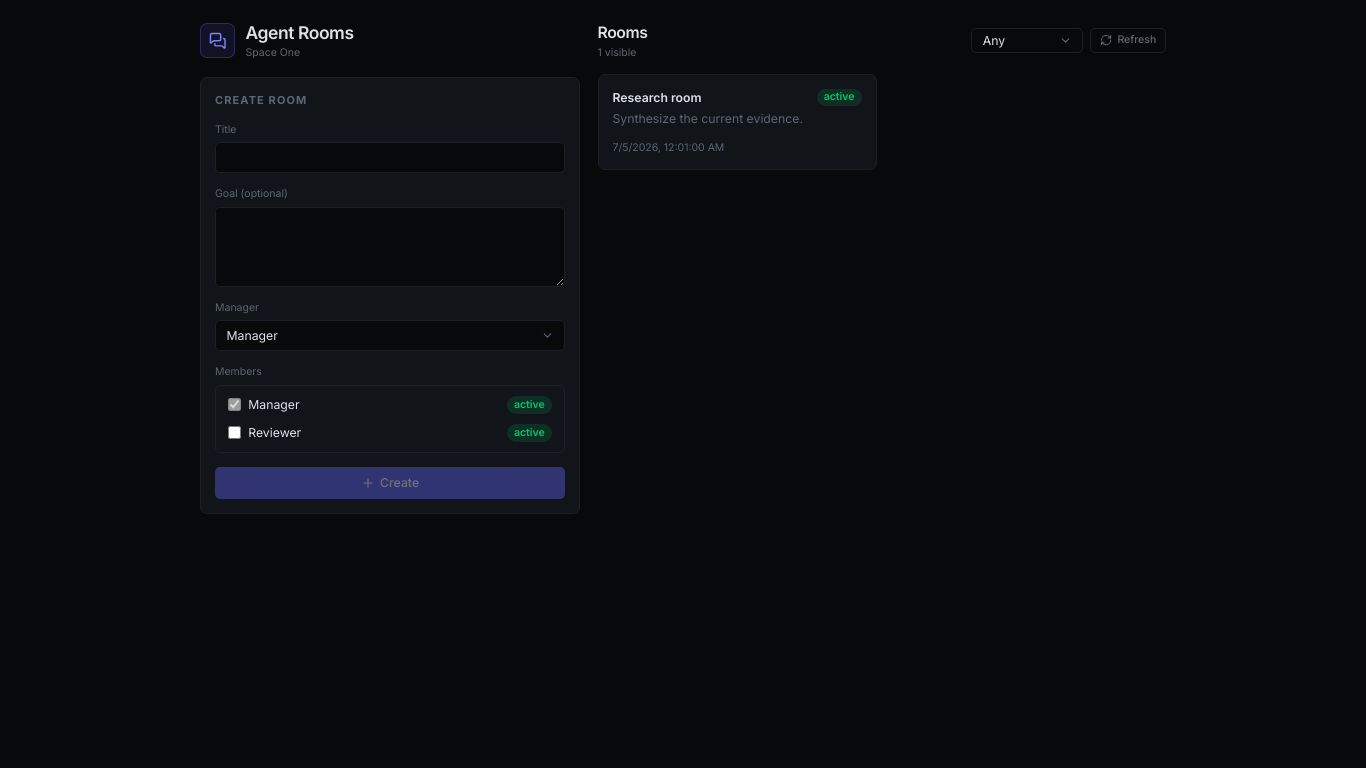
Test: AgentGroupsPage › opens a room as a chat surface and keeps audit details behind settings
Click the button "Research room": (737, 122) [598,74,876,170]
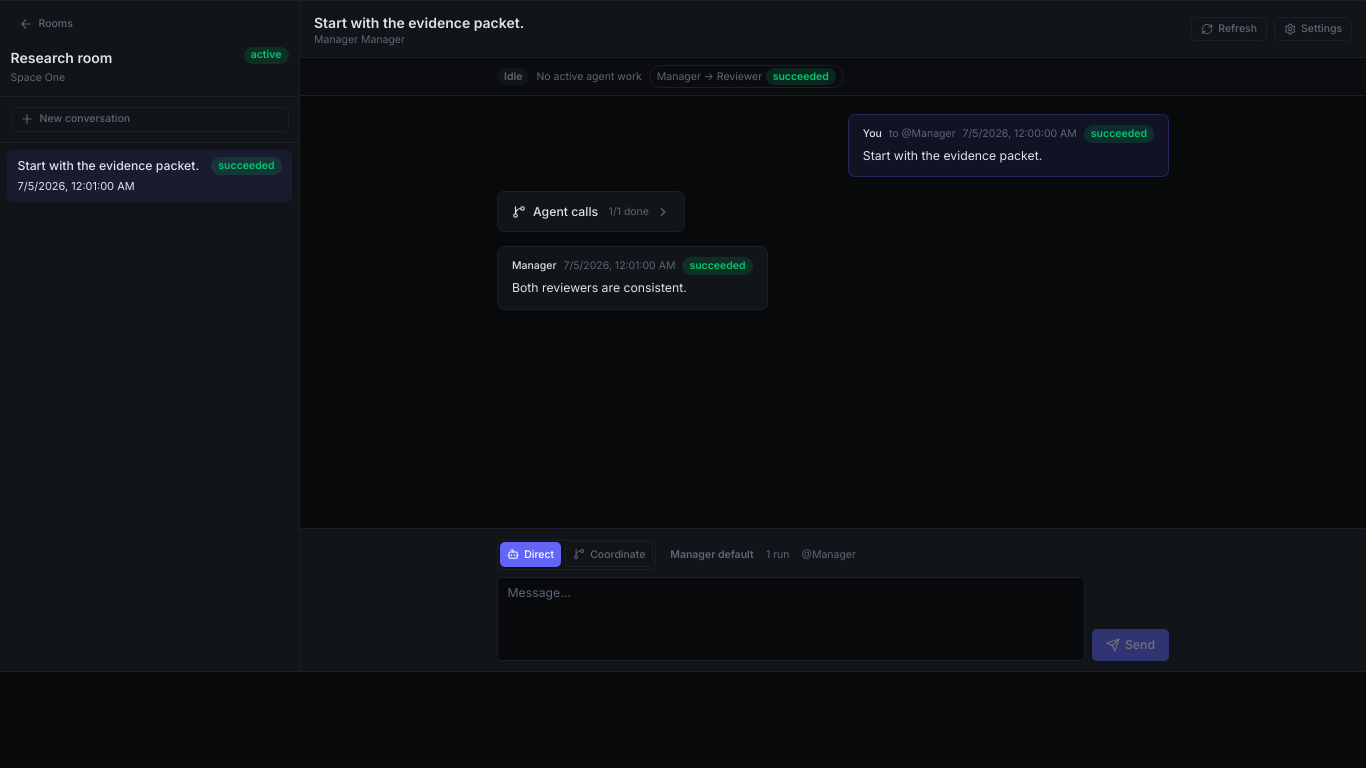
Expected: the text "Evidence summary is ready." is not shown
Now the text "Both reviewers are consistent." is shown, box [512,280,687,295]
Now the text "Agent calls" is shown, box [533,203,598,220]
Click the button "Agent calls 1/1 done": (591, 212) [512,203,670,220]
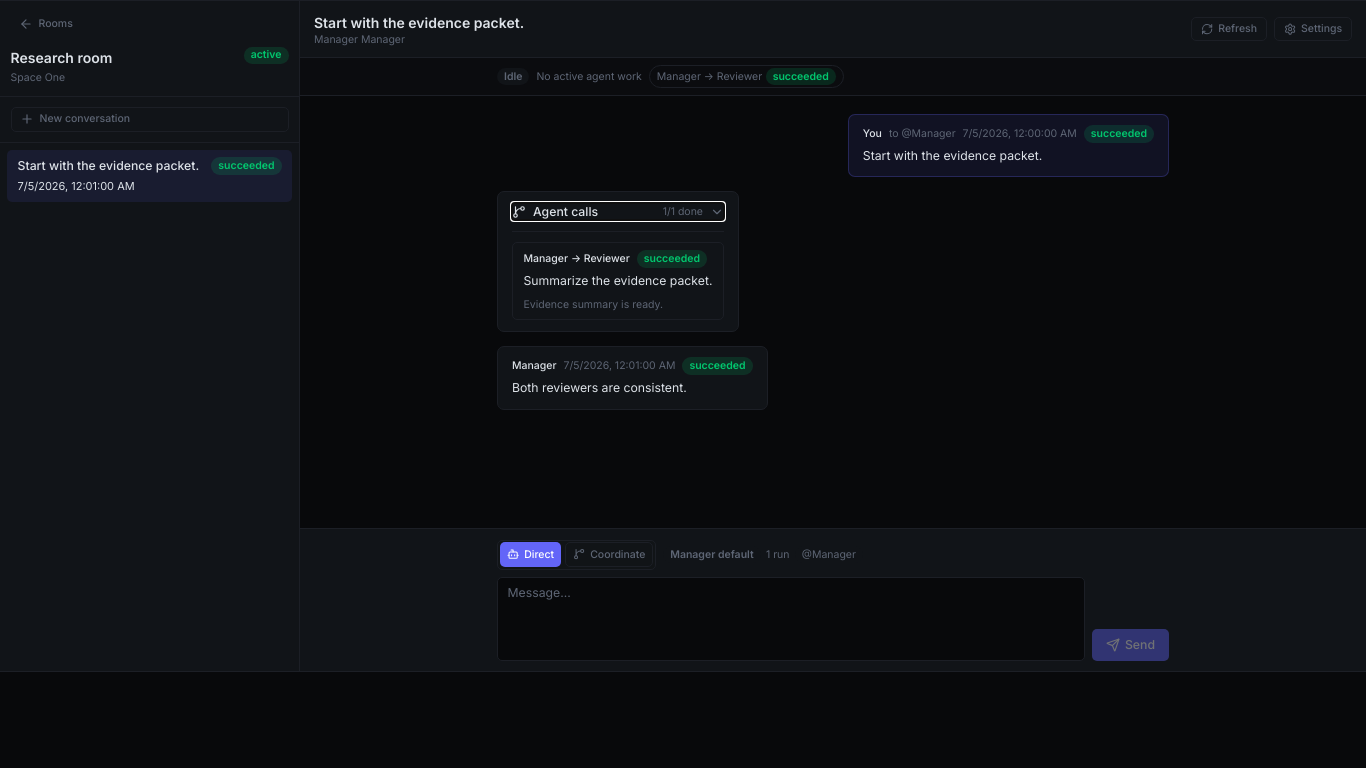
Expected: the text "Root run" is not shown
Now the text "Evidence summary is ready." is shown, box [524,298,663,311]
Click the button "Settings": (1313, 29) [1274,17,1352,41]
(page scrolled)
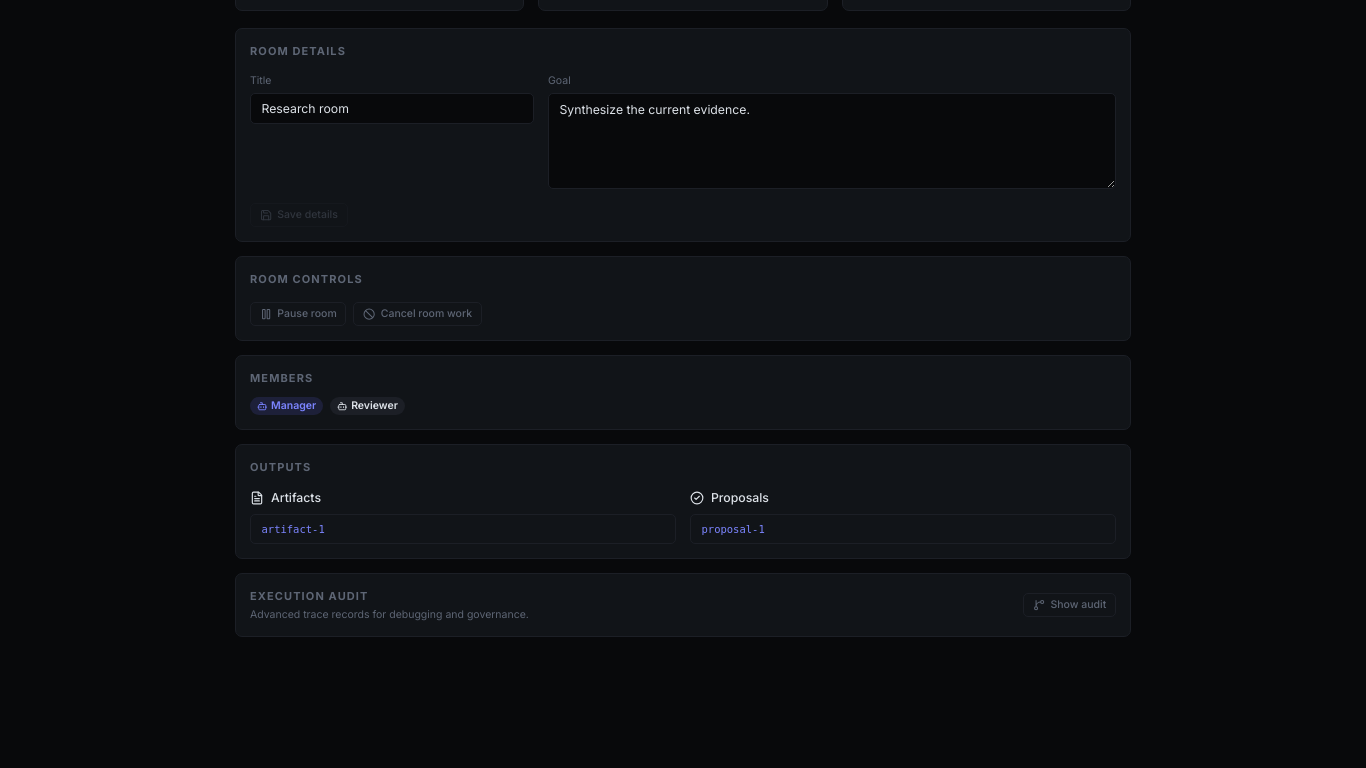
Now the heading "Outputs" is shown, box [250,460,311,474]
Now the link "artifact-1" is shown, box [250,514,676,544]
Now the link "proposal-1" is shown, box [690,514,1116,544]
Click the button "Show audit": (1070, 605) [1023,592,1116,617]
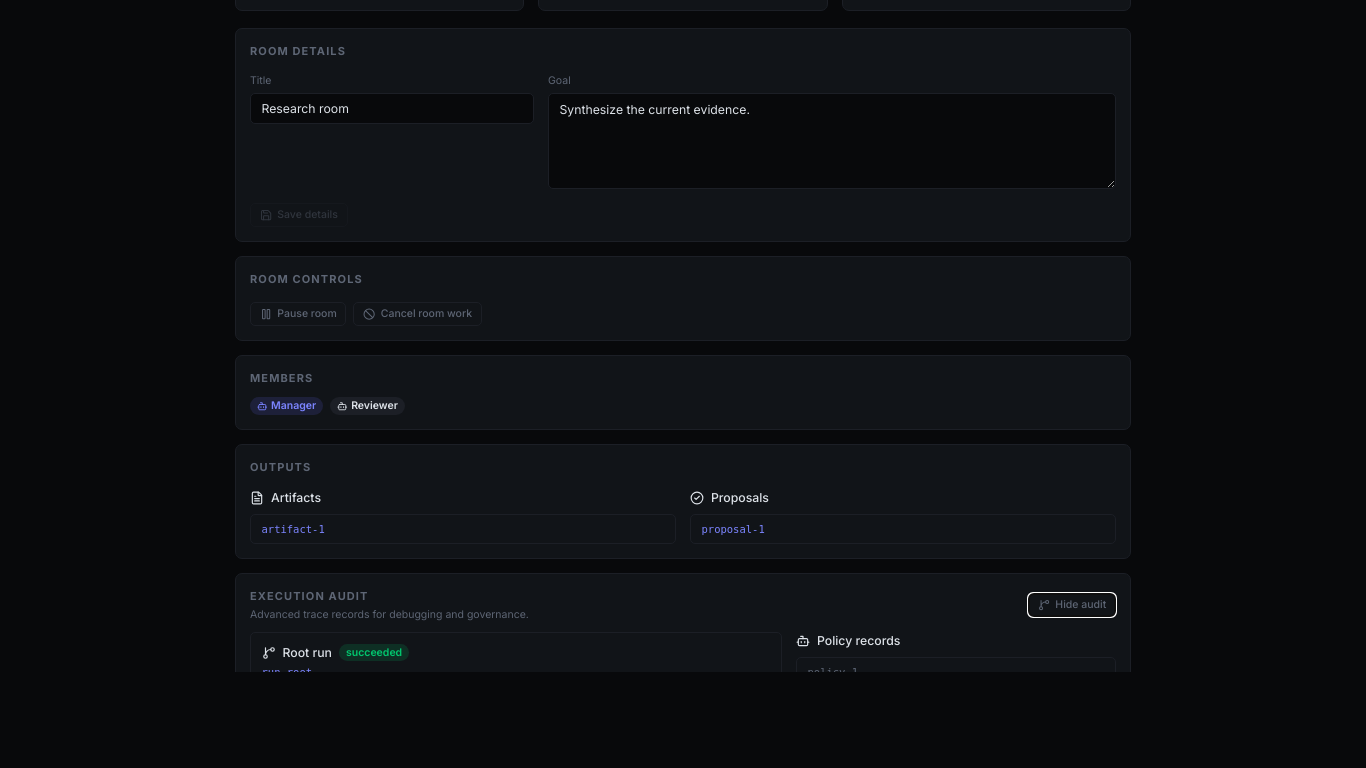
Now the text "Root run" is shown, box [282,645,332,660]
